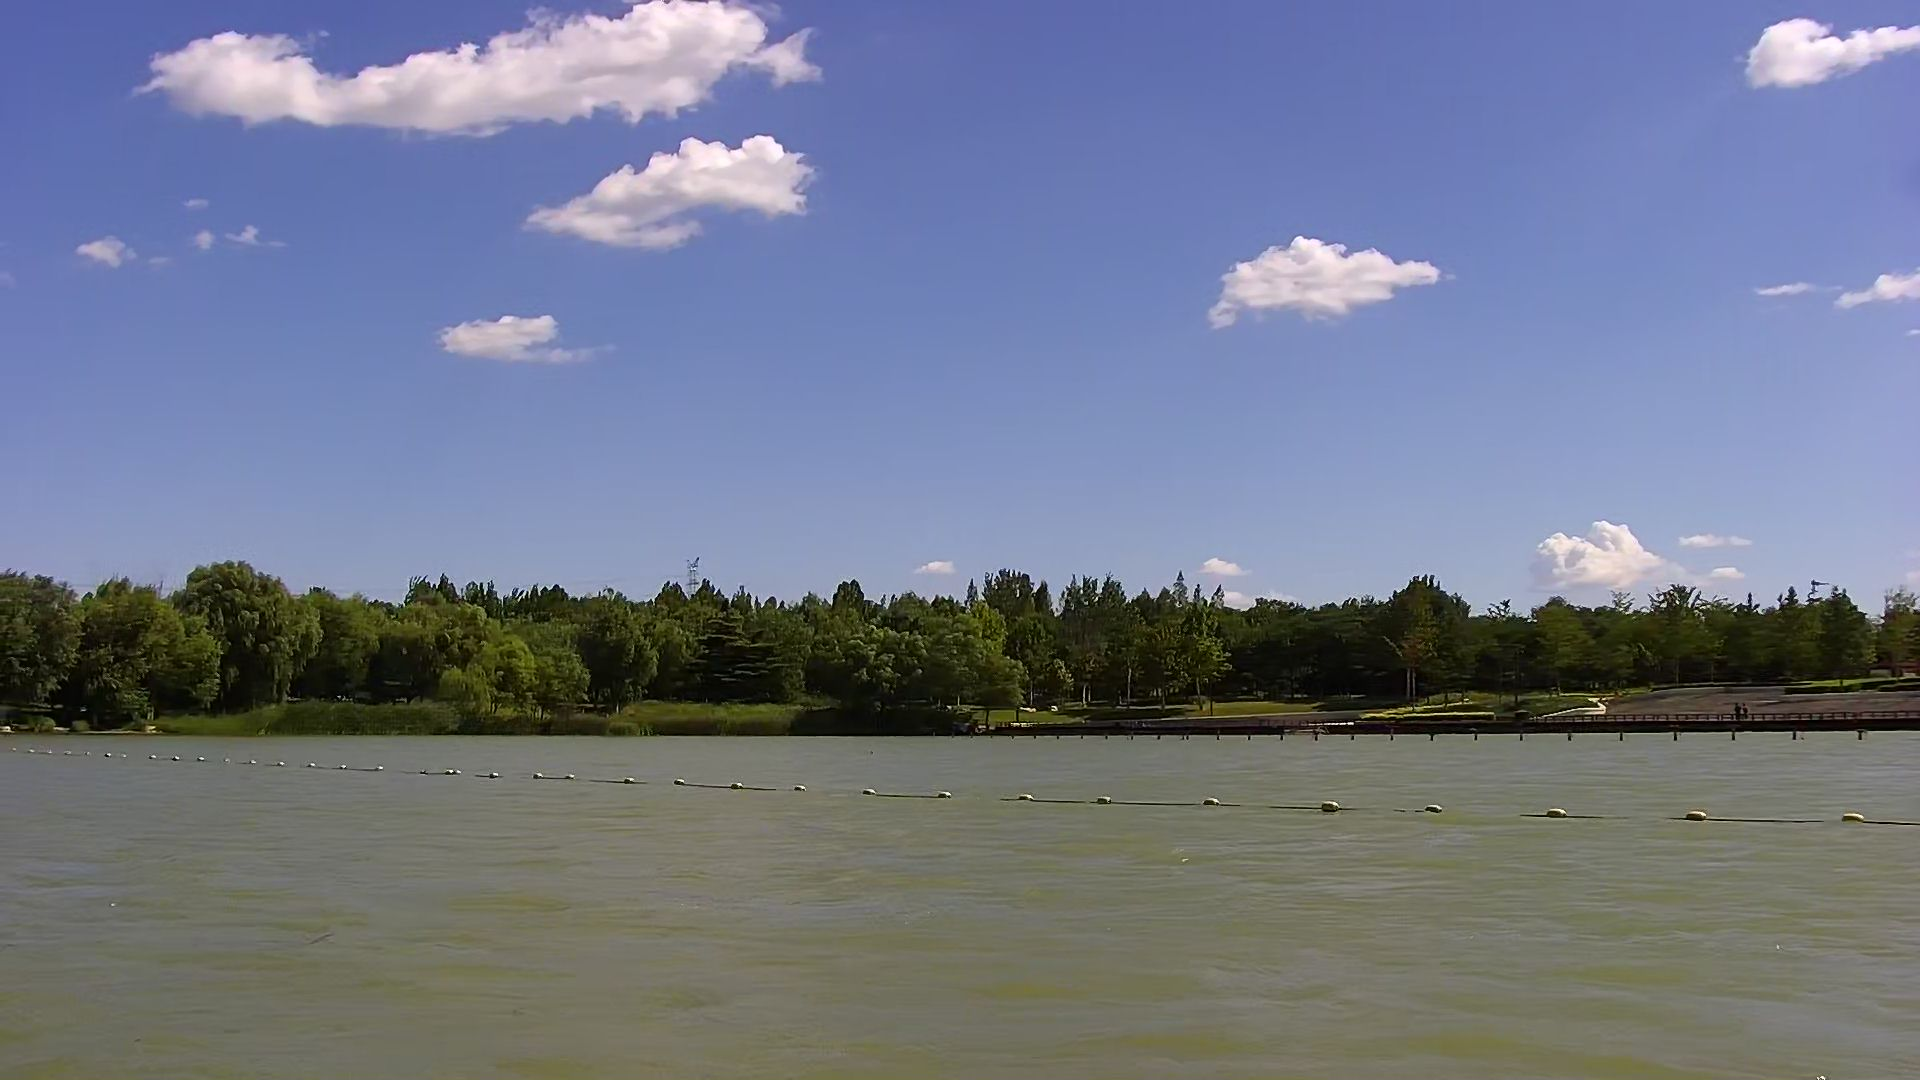ball: (1833, 793, 1875, 840), (1675, 794, 1720, 836), (1539, 793, 1577, 833), (1419, 789, 1449, 828), (1317, 789, 1349, 825), (1085, 785, 1129, 808), (1201, 785, 1226, 822)
